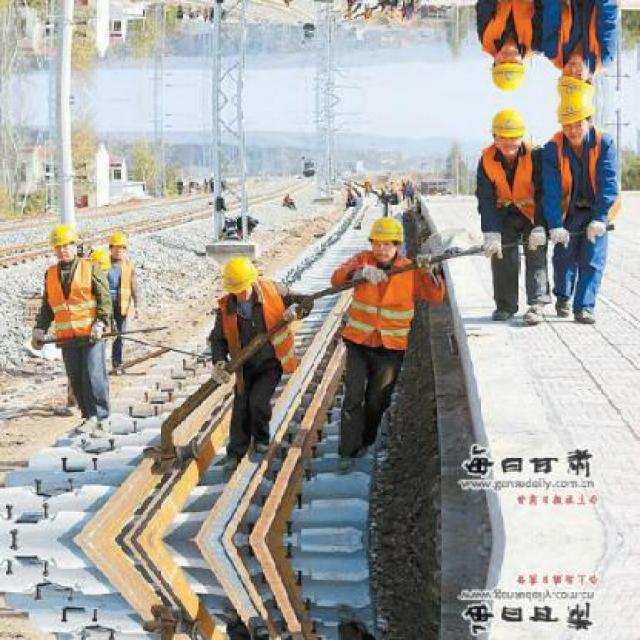helmet: (363, 212, 406, 260), (487, 46, 528, 96), (216, 252, 258, 300), (487, 105, 528, 154), (552, 101, 596, 143), (552, 58, 596, 99), (49, 221, 80, 259), (104, 226, 133, 263)
